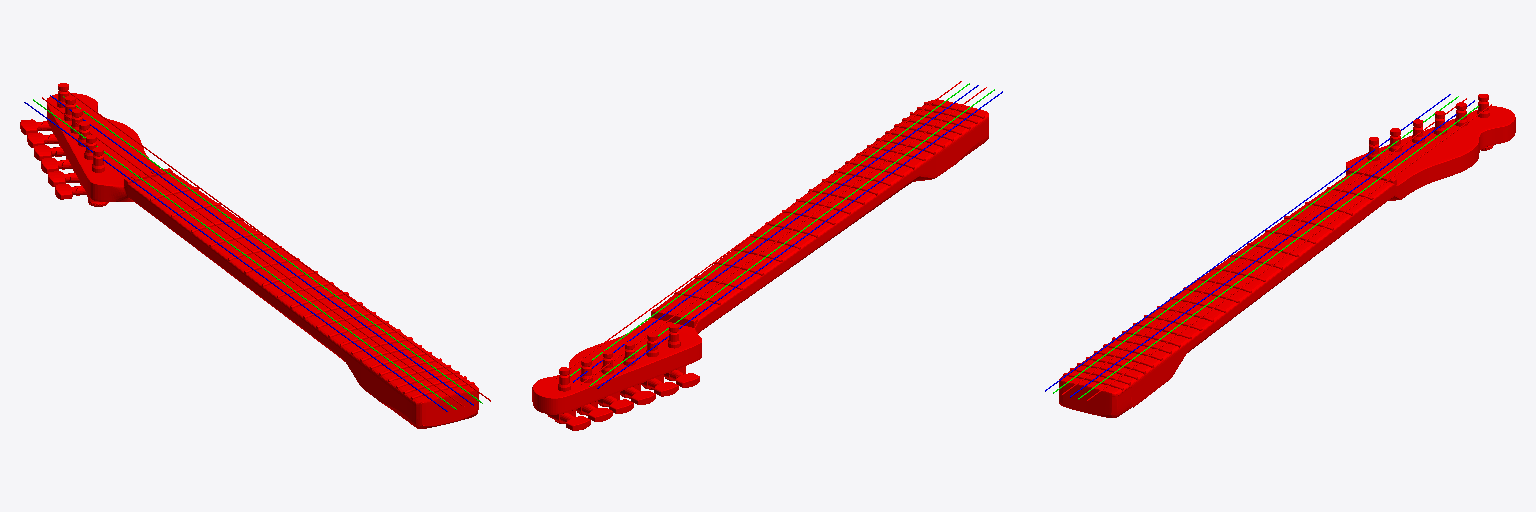
robot.urdf — guitar:
<?xml version="1.0"?>
<robot name="guitar">

  <!-- Base link (body mesh, no collision) -->
  <link name="base">
    <visual>
      <geometry><mesh filename="meshes/body.stl"/></geometry>
      <material name="green"><color rgba="0 1 0 1"/></material>
    </visual>
  </link>

  <!-- Neck (no collision) -->
  <link name="neck">
    <visual>
      <origin xyz="0.0308 -0.14885 0.005106" rpy="0 0 0"/>
      <geometry><mesh filename="meshes/neck.stl"/></geometry>
      <material name="red"><color rgba="1 0 0 1"/></material>
    </visual>
  </link>
  <joint name="neck_joint" type="fixed">
    <parent link="base"/>
    <child link="neck"/>
    <origin xyz="0 0 0"/>
  </joint>

  <!-- String 1 -->
  <link name="string1">
    <collision>
      <origin xyz="0.35455 -0.465 0.03" rpy="1.5708 1.5708 0"/>
      <geometry><cylinder radius="0.001" length="0.656"/></geometry>
    </collision>
    <visual>
      <origin xyz="0.35455 -0.465 0.03" rpy="1.5708 1.5708 0"/>
      <geometry><cylinder radius="0.0005" length="0.656"/></geometry>
      <material name="s1"><color rgba="1 0 0 1"/></material>
    </visual>
  </link>
  <joint name="string1_joint" type="fixed">
    <parent link="base"/>
    <child link="string1"/>
    <origin xyz="0 0 0"/>
  </joint>

  <!-- String 2 -->
  <link name="string2">
    <collision>
      <origin xyz="0.34678 -0.465 0.03" rpy="1.5708 1.5708 0"/>
      <geometry><cylinder radius="0.001" length="0.656"/></geometry>
    </collision>
    <visual>
      <origin xyz="0.34678 -0.465 0.03" rpy="1.5708 1.5708 0"/>
      <geometry><cylinder radius="0.0005" length="0.656"/></geometry>
      <material name="s2"><color rgba="0 1 0 1"/></material>
    </visual>
  </link>
  <joint name="string2_joint" type="fixed">
    <parent link="base"/>
    <child link="string2"/>
    <origin xyz="0 0 0"/>
  </joint>

  <!-- String 3 -->
  <link name="string3">
    <collision>
      <origin xyz="0.33901 -0.465 0.03" rpy="1.5708 1.5708 0"/>
      <geometry><cylinder radius="0.001" length="0.656"/></geometry>
    </collision>
    <visual>
      <origin xyz="0.33901 -0.465 0.03" rpy="1.5708 1.5708 0"/>
      <geometry><cylinder radius="0.0005" length="0.656"/></geometry>
      <material name="s3"><color rgba="0 0 1 1"/></material>
    </visual>
  </link>
  <joint name="string3_joint" type="fixed">
    <parent link="base"/>
    <child link="string3"/>
    <origin xyz="0 0 0"/>
  </joint>

  <!-- String 4 -->
  <link name="string4">
    <collision>
      <origin xyz="0.33124 -0.465 0.03" rpy="1.5708 1.5708 0"/>
      <geometry><cylinder radius="0.001" length="0.656"/></geometry>
    </collision>
    <visual>
      <origin xyz="0.33124 -0.465 0.03" rpy="1.5708 1.5708 0"/>
      <geometry><cylinder radius="0.0005" length="0.656"/></geometry>
      <material name="s4"><color rgba="1 0 0 1"/></material>
    </visual>
  </link>
  <joint name="string4_joint" type="fixed">
    <parent link="base"/>
    <child link="string4"/>
    <origin xyz="0 0 0"/>
  </joint>

  <!-- String 5 -->
  <link name="string5">
    <collision>
      <origin xyz="0.32347 -0.465 0.03" rpy="1.5708 1.5708 0"/>
      <geometry><cylinder radius="0.001" length="0.656"/></geometry>
    </collision>
    <visual>
      <origin xyz="0.32347 -0.465 0.03" rpy="1.5708 1.5708 0"/>
      <geometry><cylinder radius="0.0005" length="0.656"/></geometry>
      <material name="s5"><color rgba="0 1 0 1"/></material>
    </visual>
  </link>
  <joint name="string5_joint" type="fixed">
    <parent link="base"/>
    <child link="string5"/>
    <origin xyz="0 0 0"/>
  </joint>

  <!-- String 6 -->
  <link name="string6">
    <collision>
      <origin xyz="0.3157 -0.465 0.03" rpy="1.5708 1.5708 0"/>
      <geometry><cylinder radius="0.001" length="0.656"/></geometry>
    </collision>
    <visual>
      <origin xyz="0.3157 -0.465 0.03" rpy="1.5708 1.5708 0"/>
      <geometry><cylinder radius="0.0005" length="0.656"/></geometry>
      <material name="s6"><color rgba="0 0 1 1"/></material>
    </visual>
  </link>
  <joint name="string6_joint" type="fixed">
    <parent link="base"/>
    <child link="string6"/>
    <origin xyz="0 0 0"/>
  </joint>

</robot>

--- What the picture shows (computed from the rendered views, not written in the file) ---
3 views of the same robot in one strip: view 1: azimuth 30°, elevation 25°; view 2: azimuth 150°, elevation 25°; view 3: azimuth 330°, elevation 25° (orthographic).
Model guitar with 8 links and 7 joints (7 fixed), rooted at base, posed every joint at zero.
Visible links, largest first — view 1: neck, string1, string6, string5, string2, string3, string4; view 2: neck, string6, string1, string5, string2, string3, string4; view 3: neck, string1, string2, string3, string5, string6, string4.
Boxes of the visible links, x1,y1,x2,y2 form: neck: [20, 83, 478, 428]; string1: [69, 92, 490, 401]; string6: [24, 102, 447, 411]; string5: [33, 99, 456, 409]; string2: [63, 96, 482, 403]; string3: [50, 95, 473, 405]; string4: [42, 97, 464, 407]; neck: [532, 99, 988, 430]; string6: [597, 91, 1002, 388]; string1: [556, 81, 961, 378]; string5: [589, 89, 994, 386]; string2: [570, 83, 969, 376]; string3: [573, 85, 978, 382]; string4: [581, 87, 986, 384]; neck: [1059, 94, 1515, 417]; string1: [1086, 104, 1491, 401]; string2: [1078, 106, 1478, 399]; string3: [1070, 100, 1474, 397]; string5: [1053, 96, 1458, 393]; string6: [1045, 94, 1450, 391]; string4: [1061, 98, 1466, 395].
Size in the robot's own frame: 0.0917 by 0.6788 by 0.0459 metres.
Meshes: 2 distinct files referenced, 1 mesh visuals loaded (1 binary STL); not drawn: 1 (reference not matched to a file when rendering).
